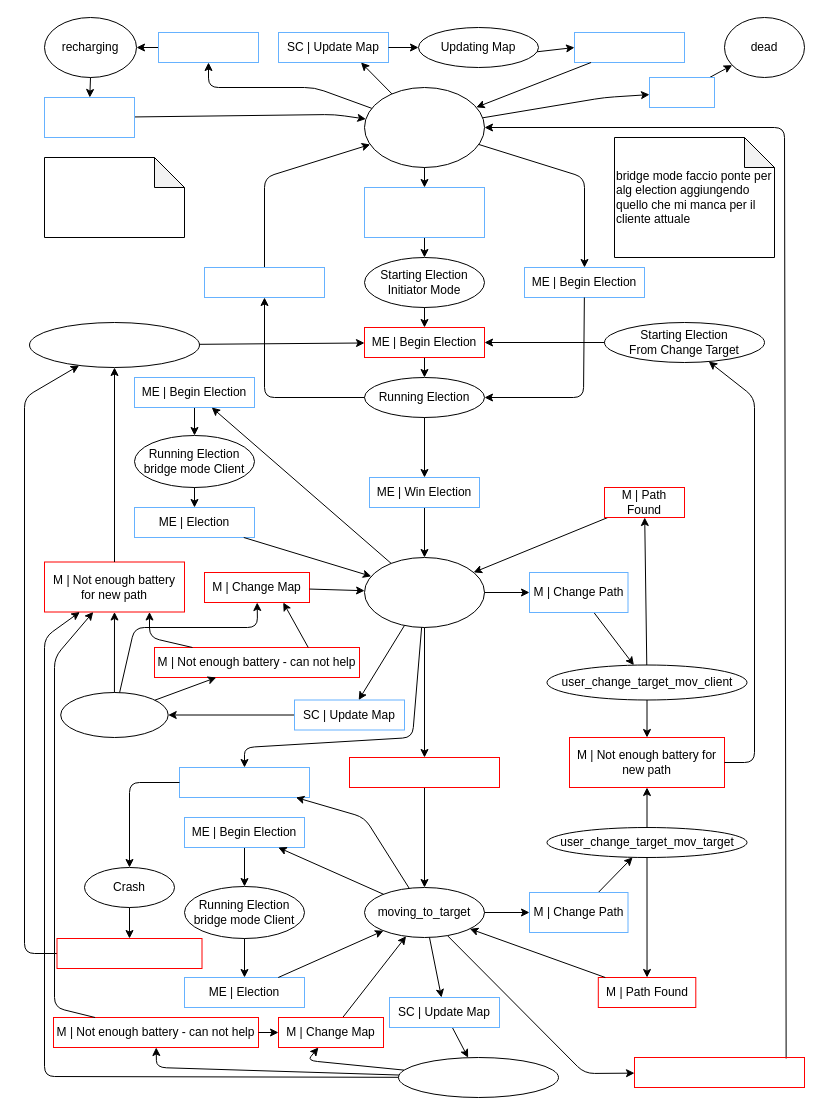
This 822x1115 diagram has some shape labels left out. Each missing label, with the centre of its shape:
EV | Battery Full: [89,117]
EV | Battery Low: [208,47]
EV | Map Updated: [629,47]
idle: [424,127]
L'auto decide in base alla situazione di avviare l'elezione: [114,197]
M | Arrived in Target Position: [719,1072]
M | Arrived in User Position: [424,772]
M | Car Crash: [129,953]
ME | Begin Election Service Module: [424,212]
ME | Lose Election: [264,282]
moving_to_client: [424,592]
SC | Die: [681,92]
SC | Incidente: [244,782]
Starting Election From Unexpected Problem: [114,345]
Update Map Moving Client: [114,715]
Update Map Moving Target: [478,1077]
